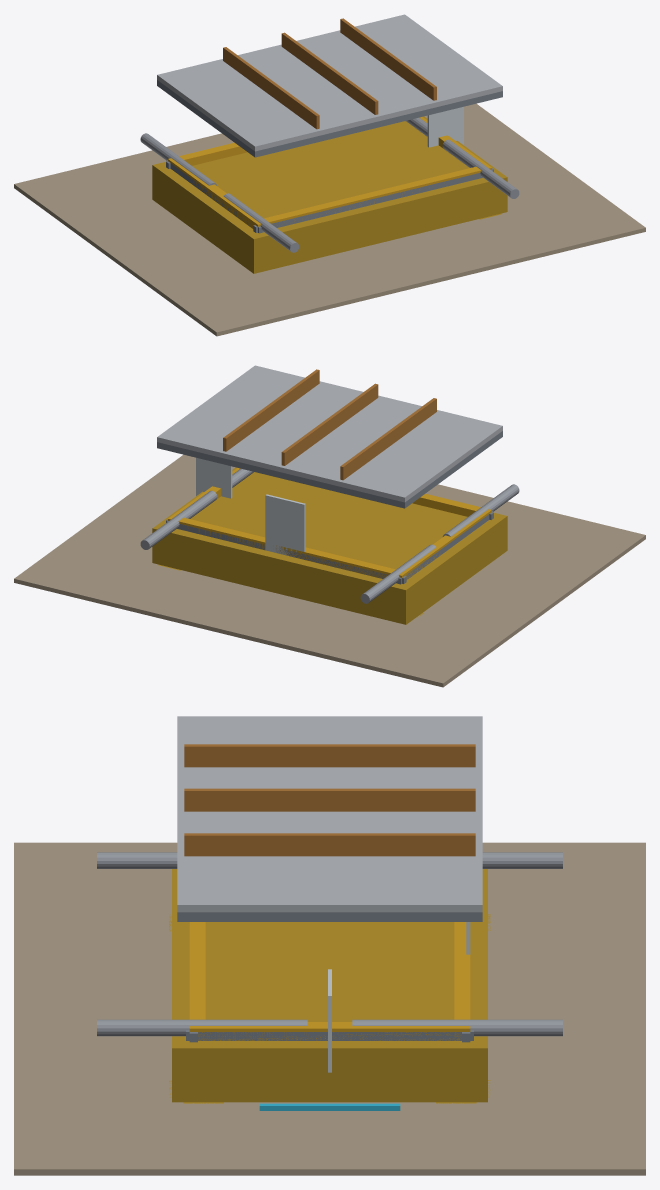
The model's file is stage_10_roof_covering.glb.
3 views of the same model, one above another, from view 1: azimuth 30°, elevation 25°; view 2: azimuth 150°, elevation 25°; view 3: azimuth 270°, elevation 25° (orthographic). The views are drawn at different scales.
Visible parts, largest first — view 1: world; view 2: world; view 3: world.
Part boxes in pixels (x1=…): world: x1=14, y1=14, x2=645, y2=336; world: x1=14, y1=365, x2=645, y2=687; world: x1=14, y1=716, x2=645, y2=1175.
Bounding box in the file's own units: 11 × 4.2 × 9.
